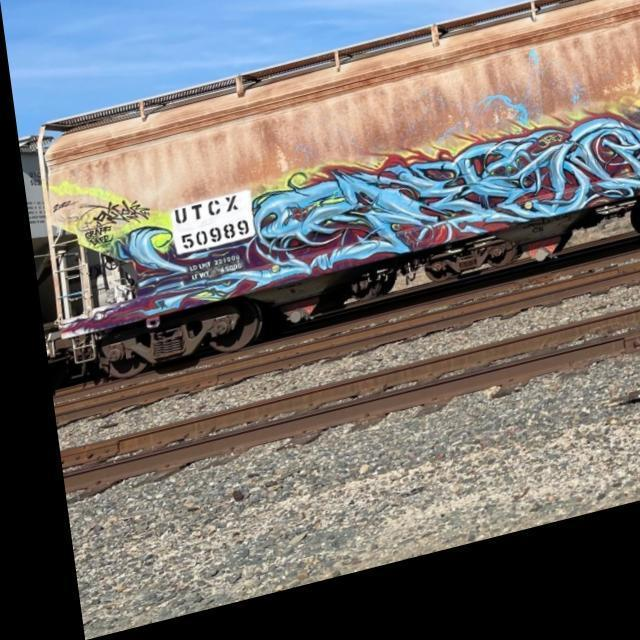-: (103, 129, 640, 334), (74, 199, 146, 239), (71, 222, 107, 256), (38, 193, 74, 219)
